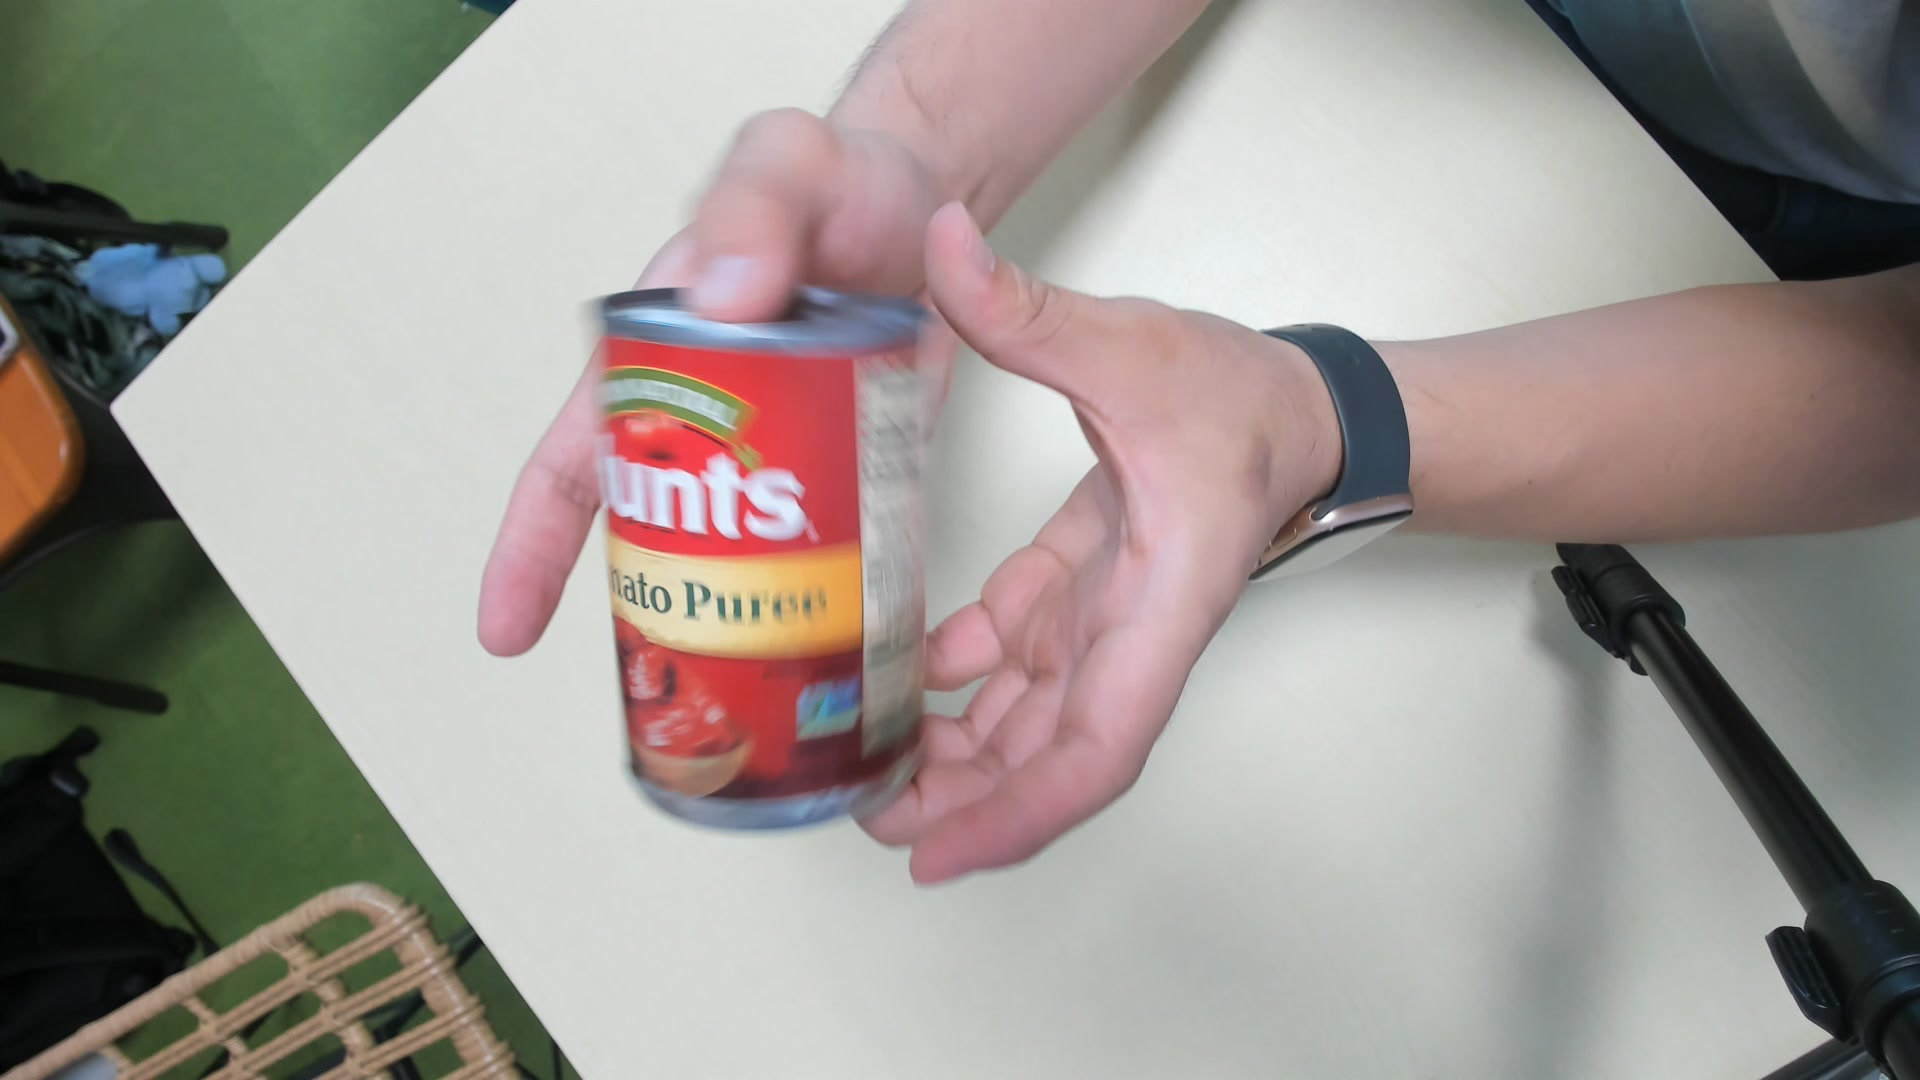OtherSauceDressing_300-399g_NonHalal_NonHealthy: (592, 276, 934, 829)
